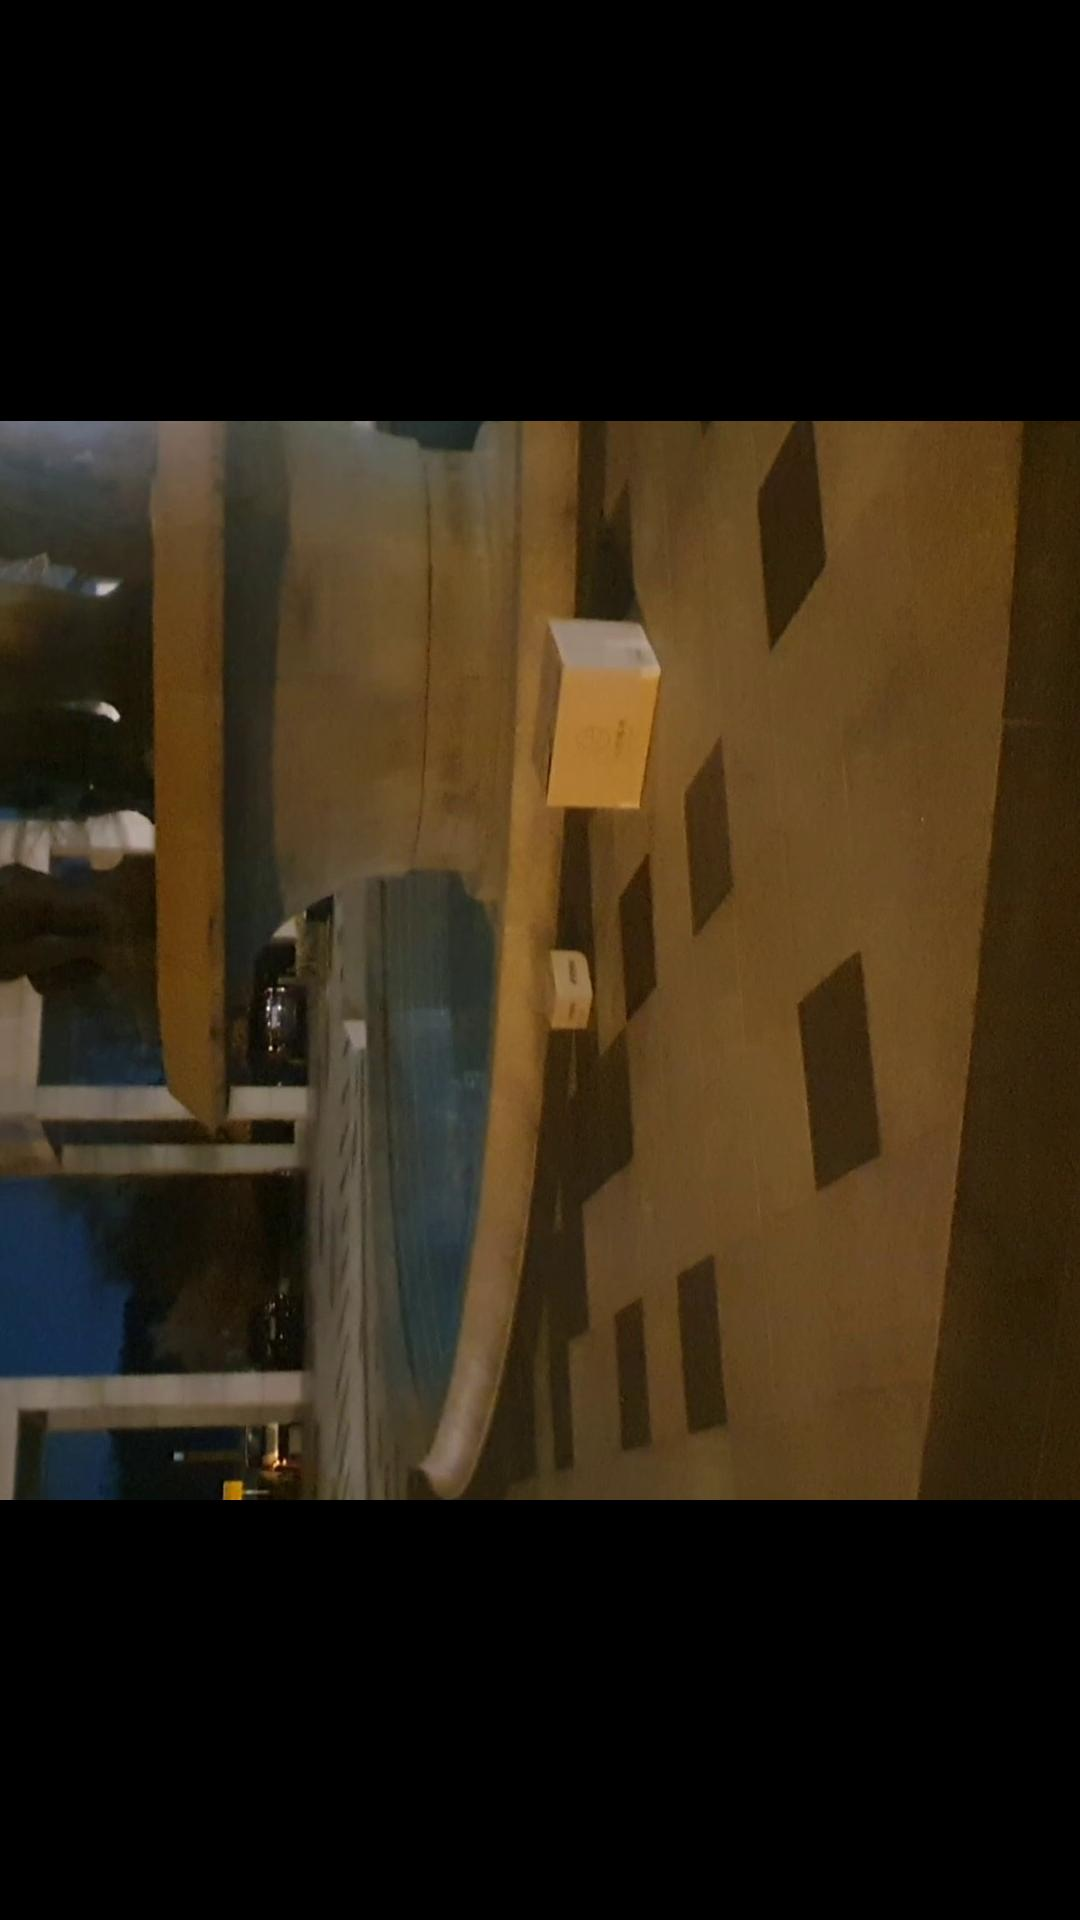Box: (520, 593, 675, 808), (525, 924, 605, 1054)
